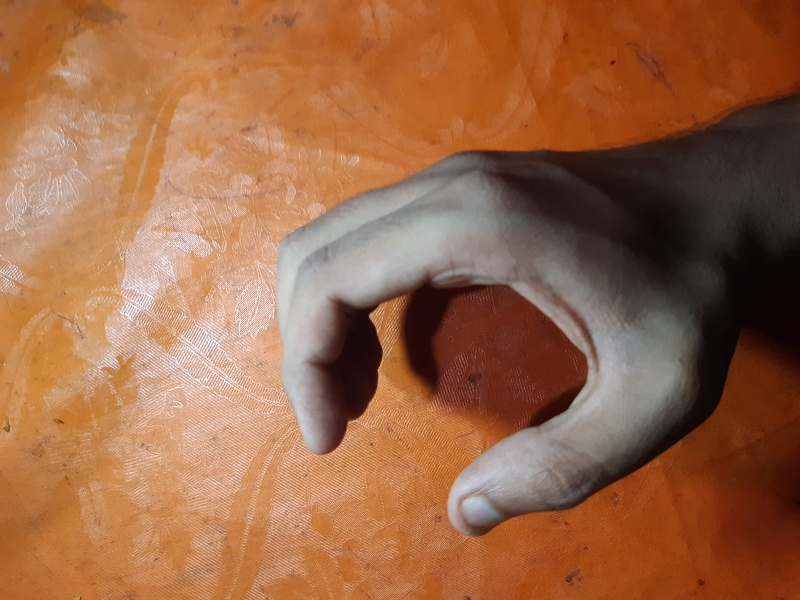one: (257, 129, 740, 549)
